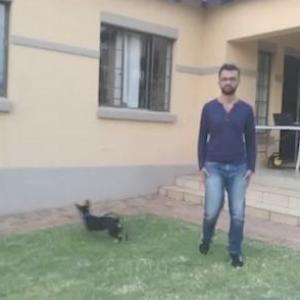follow: (192, 65, 256, 262)
